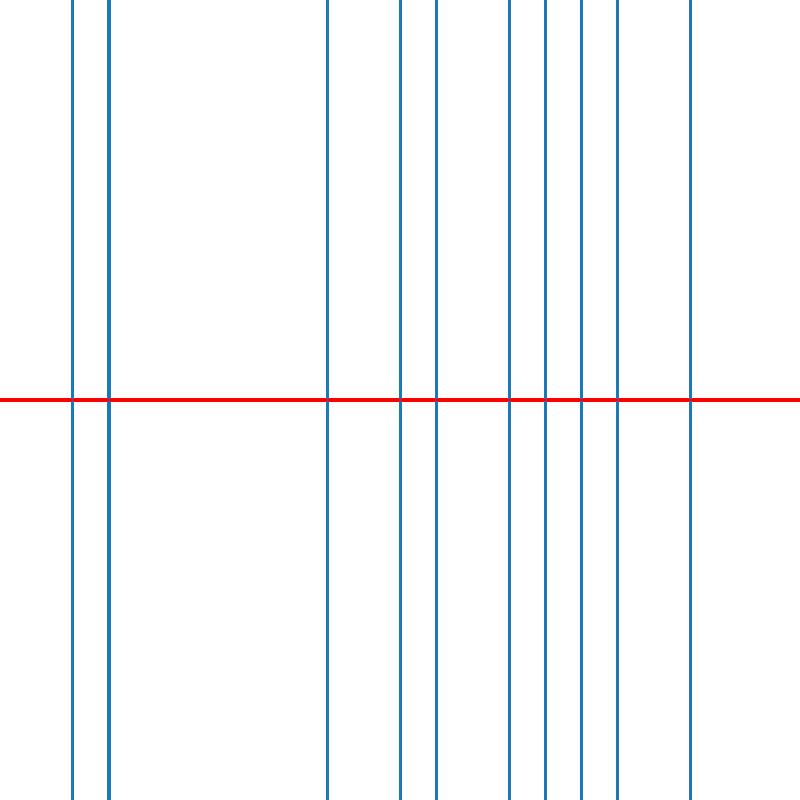root: (432, 396, 440, 404), (541, 396, 549, 404), (396, 396, 403, 404), (578, 396, 585, 404), (323, 396, 330, 404), (614, 396, 621, 404), (105, 396, 112, 404), (687, 396, 694, 404), (505, 396, 512, 404), (69, 396, 76, 404)
